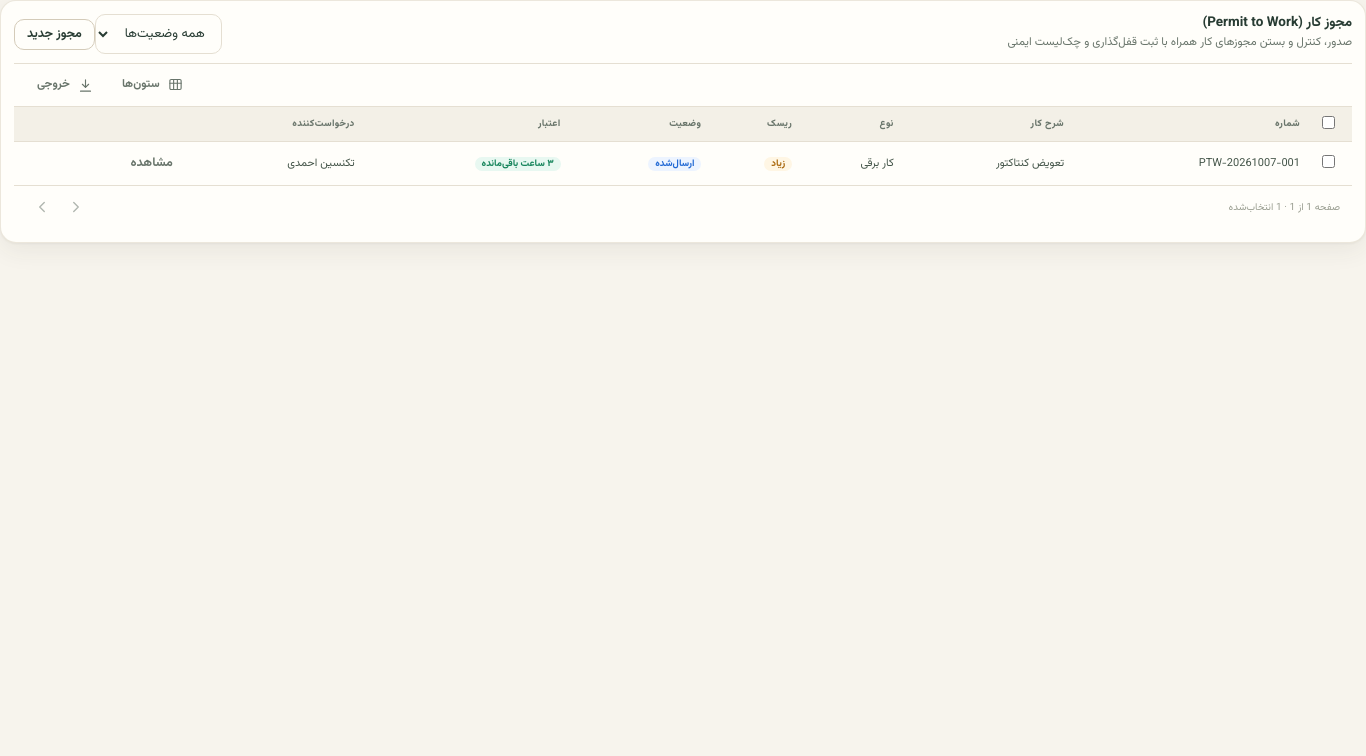
permit to work page › surfaces a server-side safety refusal as a readable message
Click the button "مشاهده" at (152, 163), box [118,148,186,179]
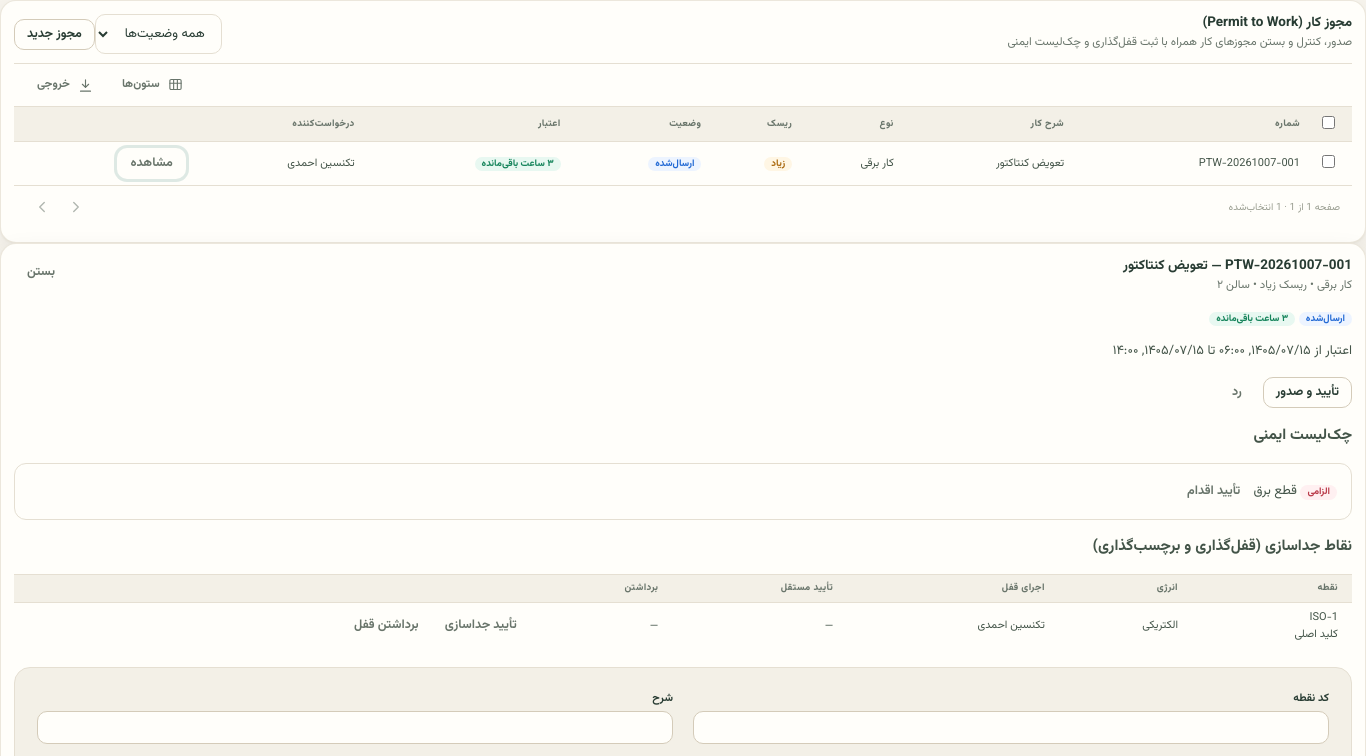
Click the button "تأیید و صدور" at (1307, 393), box [1263,377,1352,408]
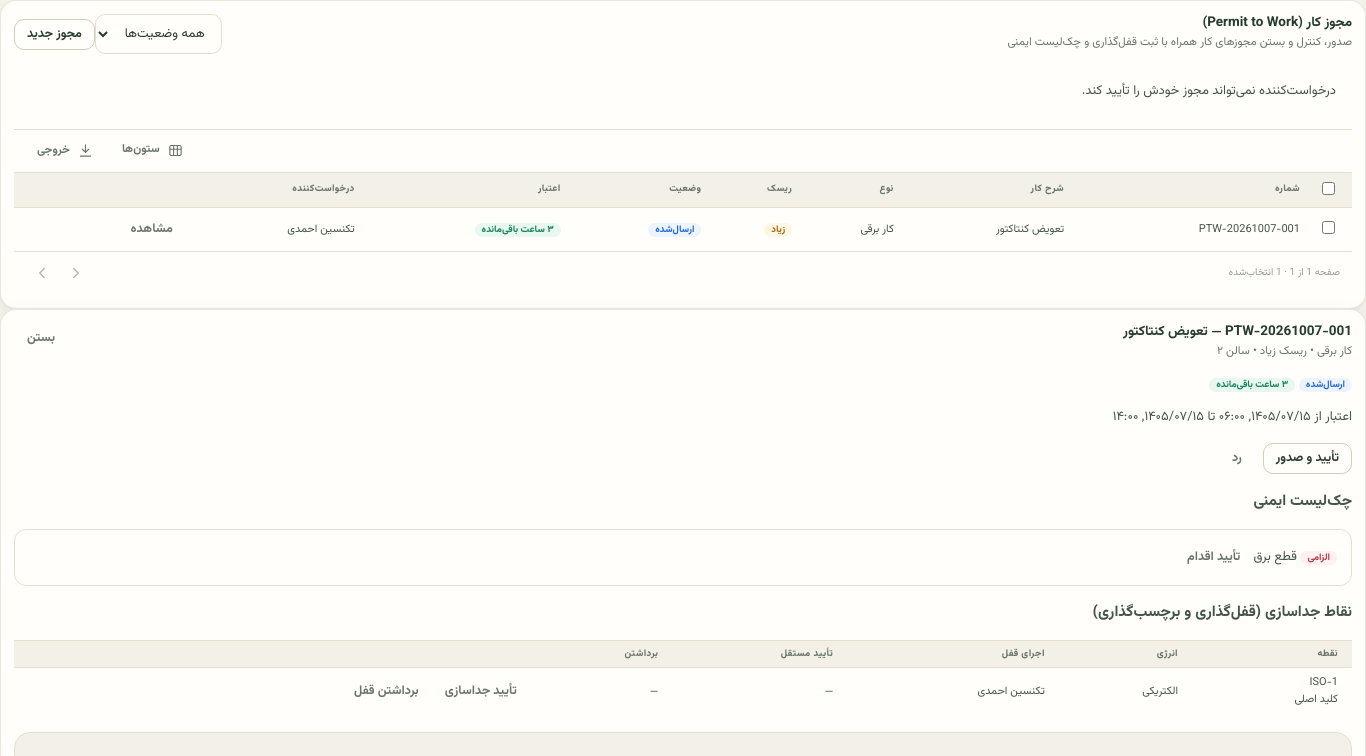
Now the text "درخواست‌کننده نمی‌تواند مجوز خودش را تأیید کند." is shown, box [1082,81,1336,101]
